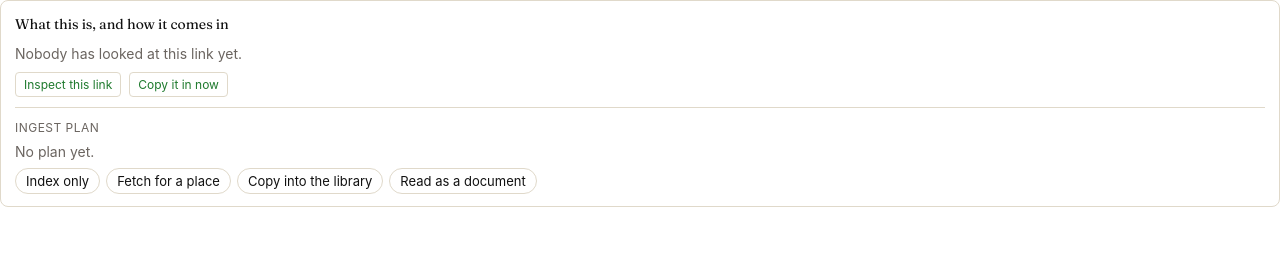
Test: copy it in now › starts the copy and says it takes a while
Click the button with test id "replicate-now" at (179, 84), box [129,72,228,97]
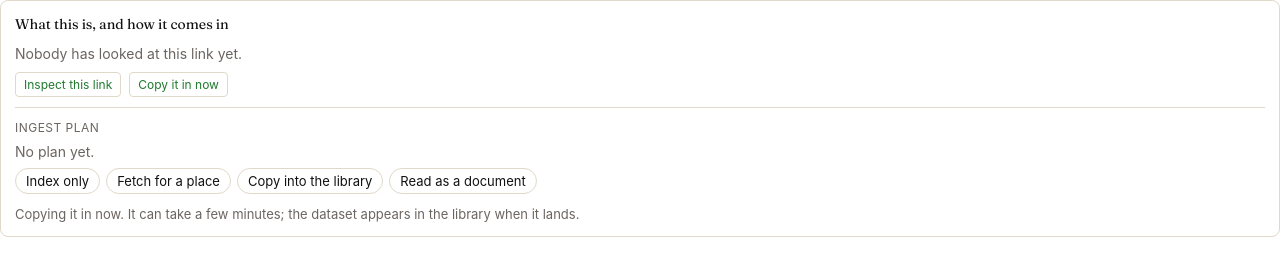
Expected: the text with test id "ingest-note" shows "take a few minutes", [15,206,579,222]
